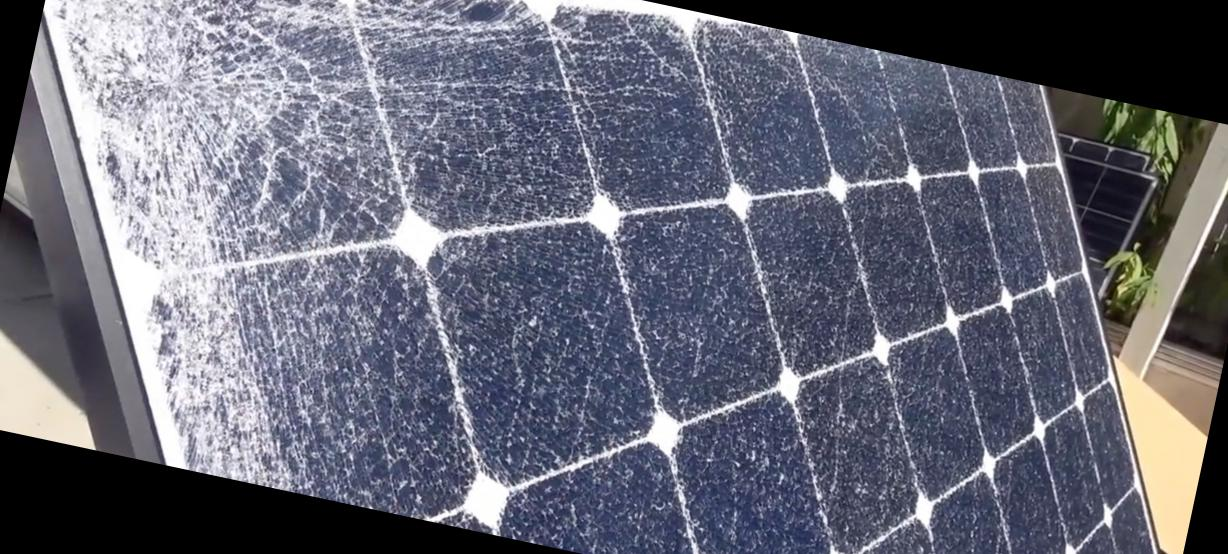Crack: (0, 0, 465, 310)
